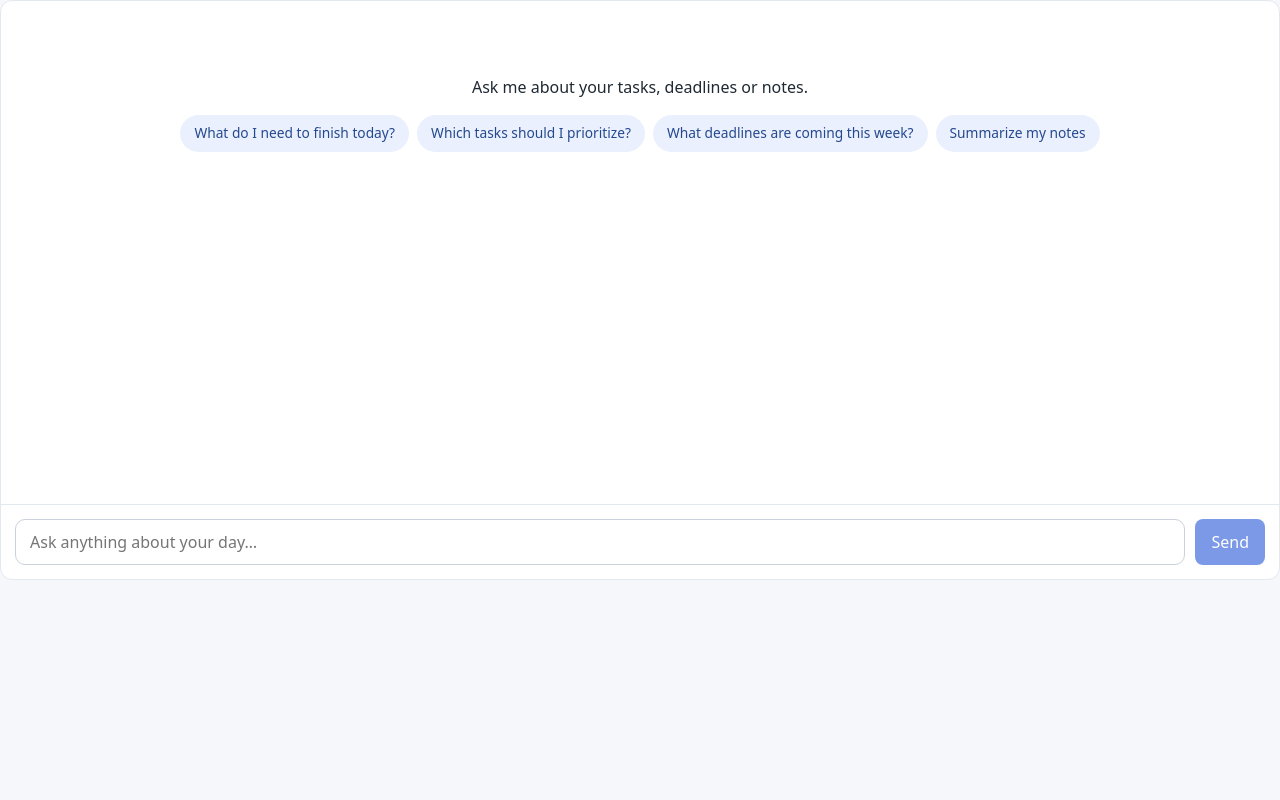
Scenario: ChatAssistant › sends a message and shows the reply
This screenshot has width=1280, height=800.
Type "What is due today?" into the field named "message the assistant" at (600, 542), box x1=15 y1=519 x2=1186 y2=565
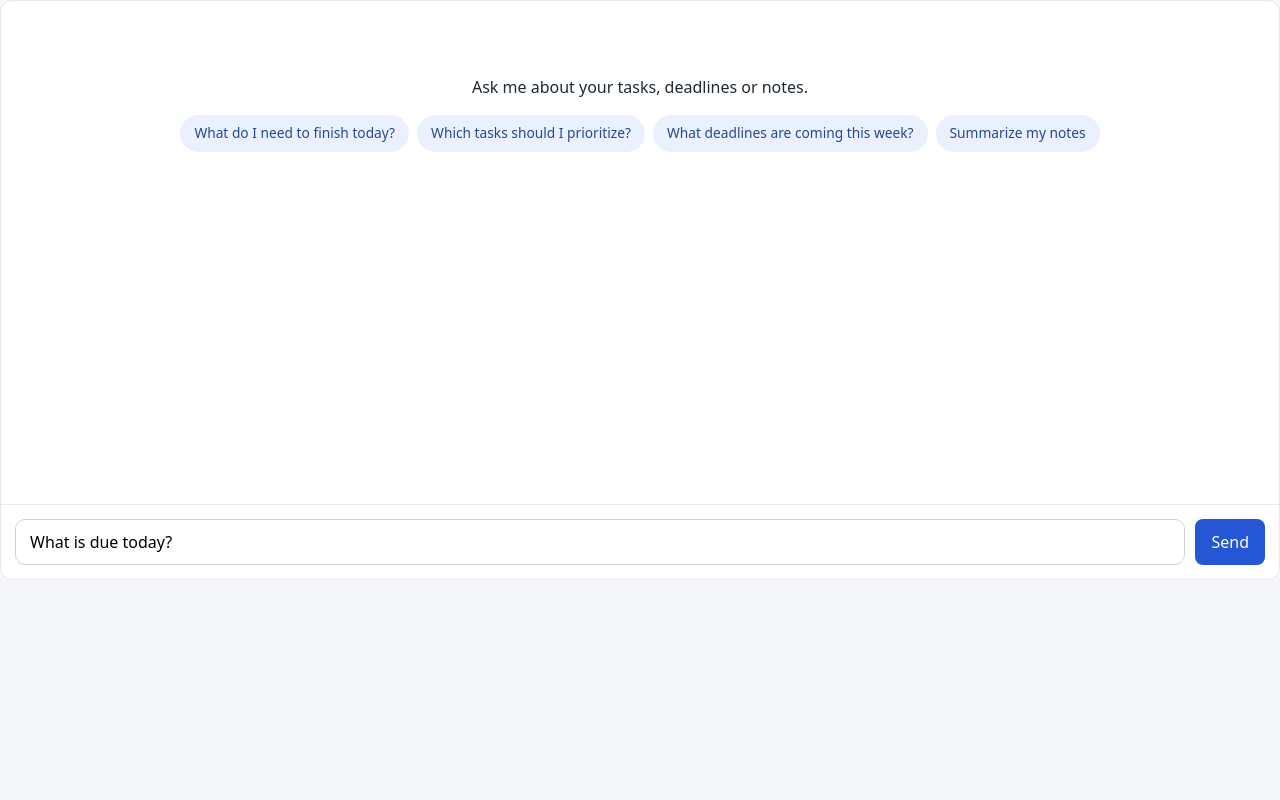
Click the button "Send" at (1230, 542), box x1=1196 y1=519 x2=1265 y2=565
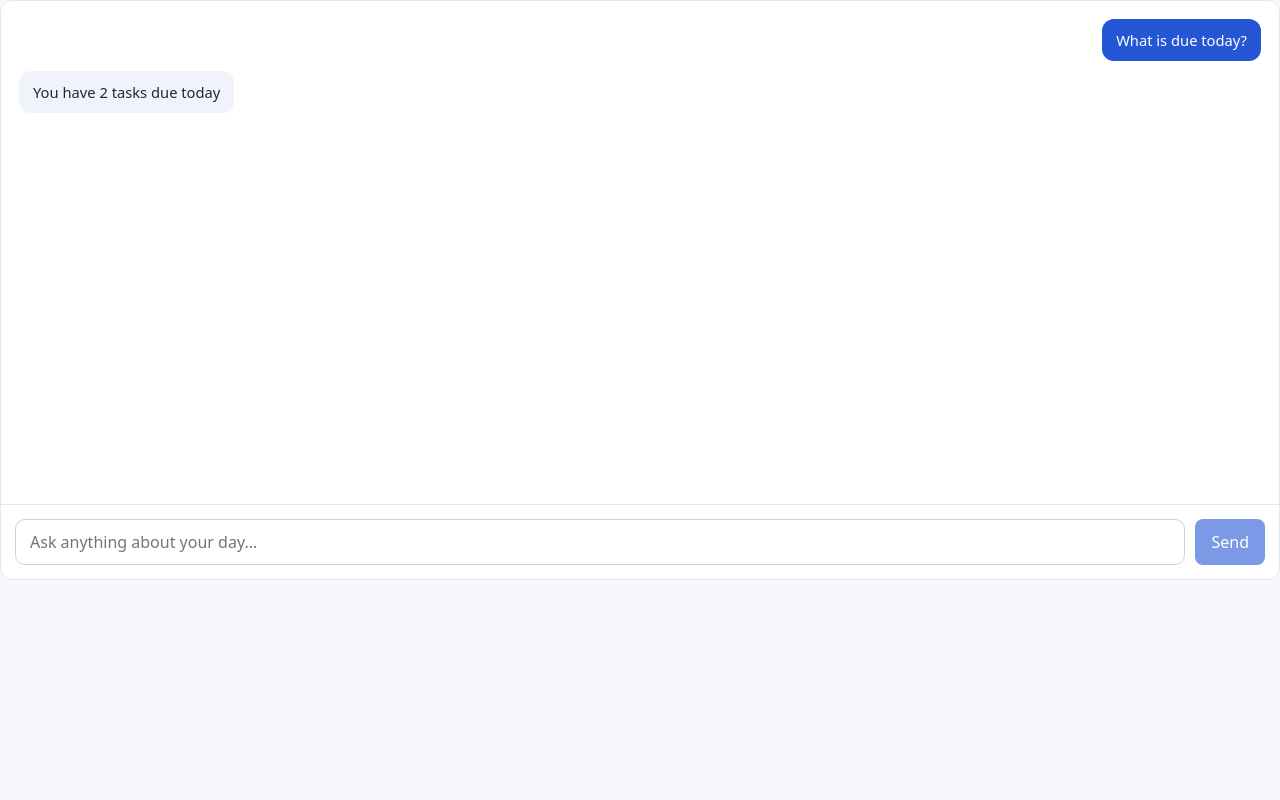
Check: the text "You have 2 tasks due today" is shown, box x1=33 y1=81 x2=220 y2=103
